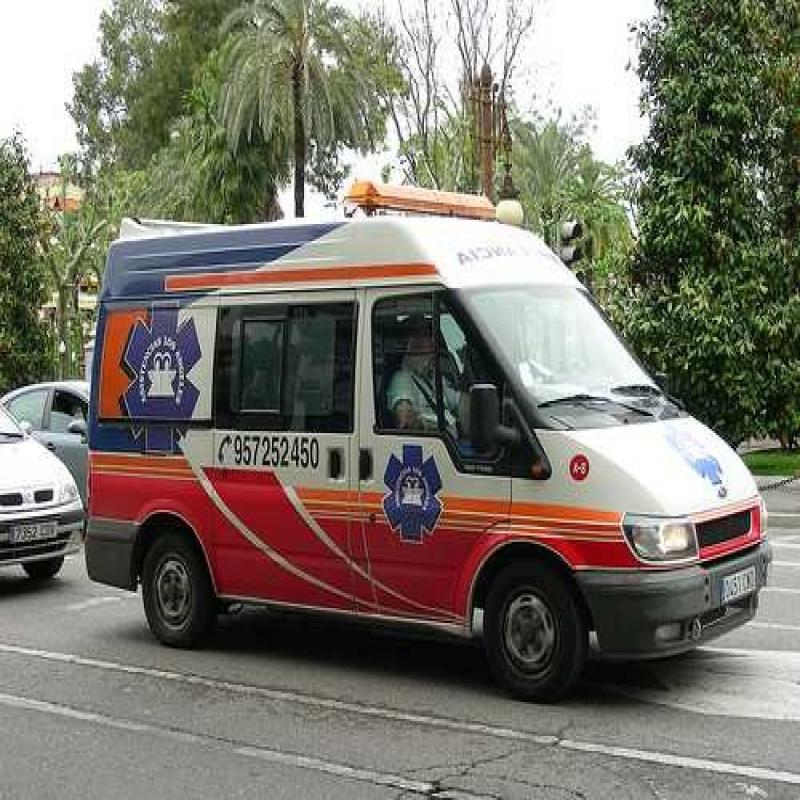AmbulanceSiren: (340, 169, 568, 238)
